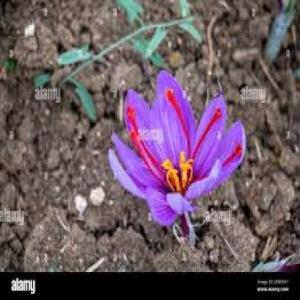Saffron: (110, 70, 246, 224)
